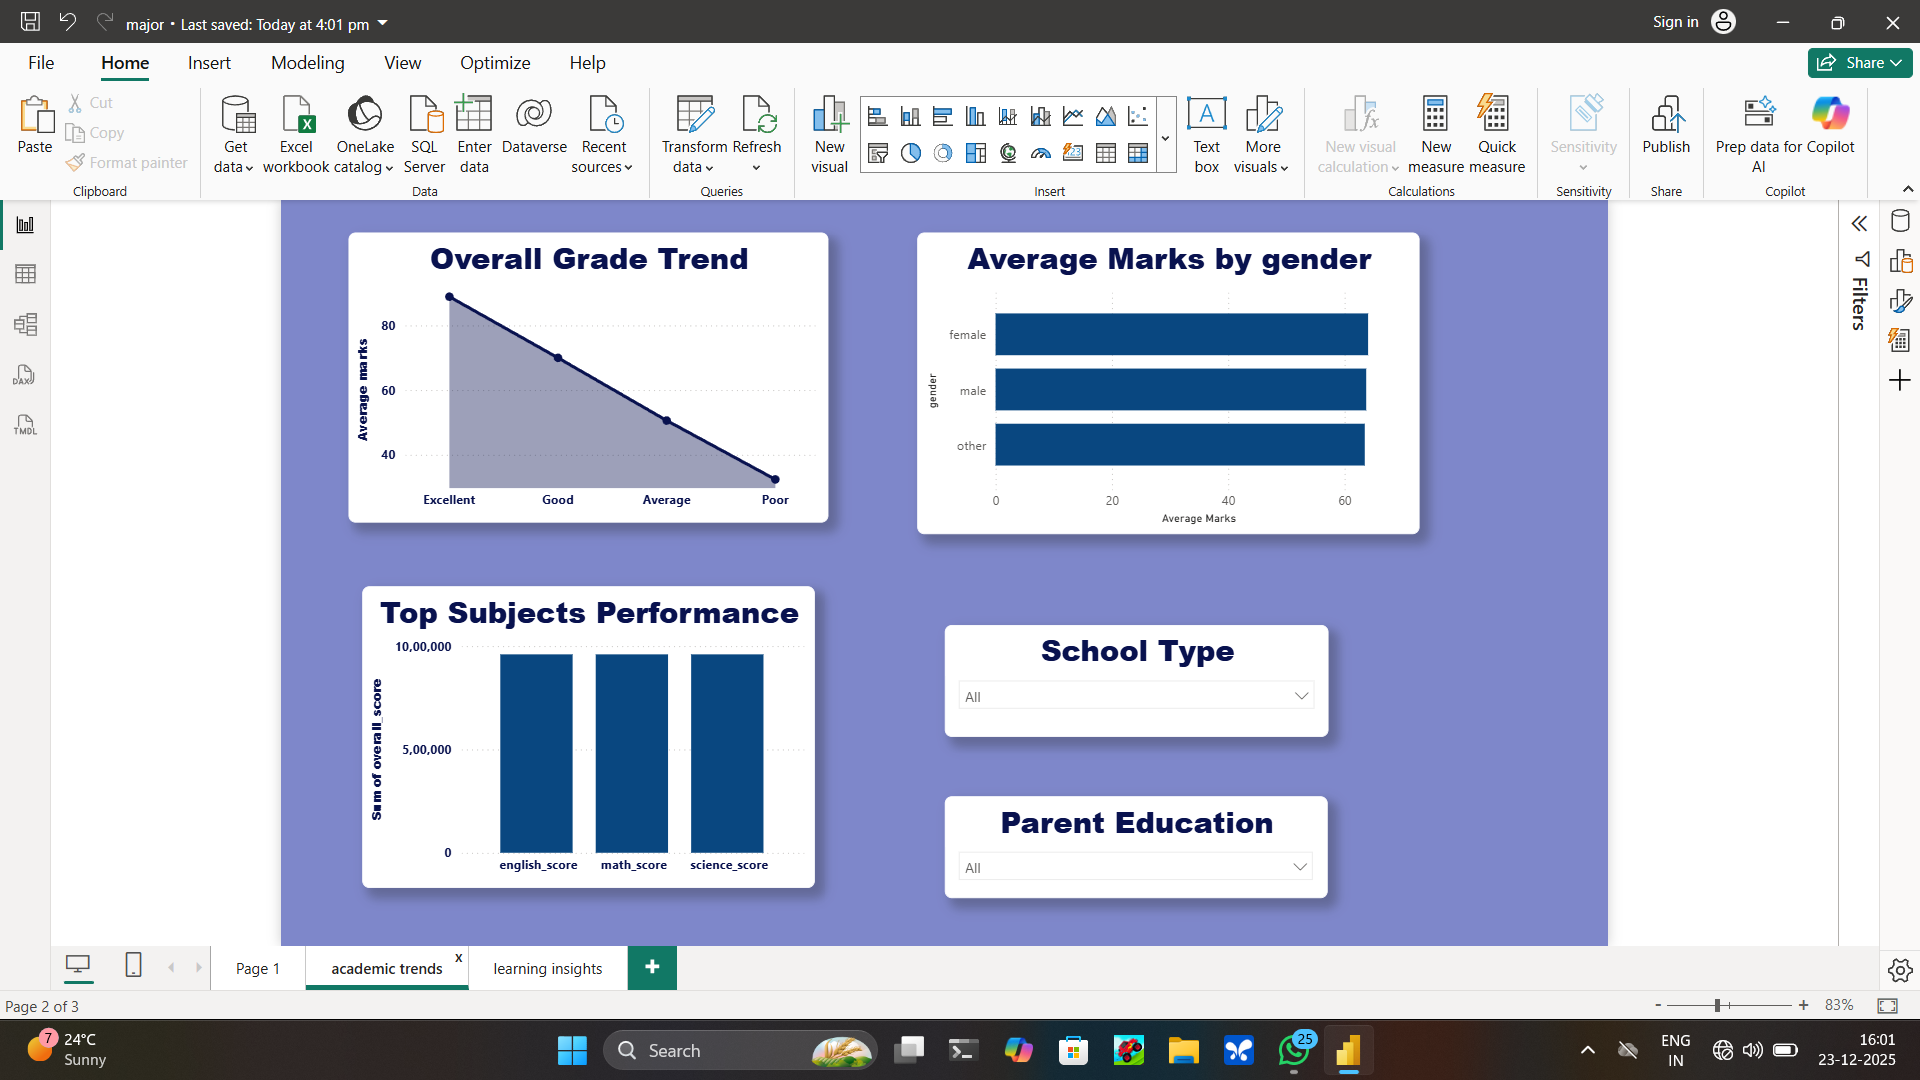

The page's visual inventory and layout, read from the dashboard file:
{"tool":"powerbi","page":{"name":"academic trends","canvas":[1280,720],"ordinal":1},"visuals":[{"type":"lineChart","title":"Overall Grade Trend","fields":{"Category":["education database.performance_level"],"Y":["education database.Average Marks"]},"box":[64.9,31.7,463.1,279.9],"z":0},{"type":"clusteredColumnChart","title":"Top Subjects Performance","fields":{"Y":["Sum(education database.overall_score)"],"Category":["education database.Attribute"]},"box":[77.9,372.2,437.2,291.4],"z":1000},{"type":"clusteredBarChart","fields":{"Category":["education database.gender"],"Y":["education database.Average Marks"]},"box":[614.6,31.7,484.8,291.4],"z":2000},{"type":"slicer","title":"Parent Education","fields":{"Values":["education database.parent_education"]},"box":[640.6,575.7,369.3,98.1],"z":3000},{"type":"slicer","title":"School Type","fields":{"Values":["education database.school_type"]},"box":[640.6,409.7,370.8,108.2],"z":4000}]}

Visuals, with their boxes on the page's 1280x720 design canvas (x1, y1, x2, y2). These are canvas units, not pixel positions in the 1920x1080 screenshot, which may show the page scaled, cropped or inside an application window:
"Overall Grade Trend" lineChart: x1=65 y1=32 x2=528 y2=312
"Top Subjects Performance" clusteredColumnChart: x1=78 y1=372 x2=515 y2=664
clusteredBarChart - education database.gender x education database.Average Marks: x1=615 y1=32 x2=1099 y2=323
"Parent Education" slicer: x1=641 y1=576 x2=1010 y2=674
"School Type" slicer: x1=641 y1=410 x2=1011 y2=518
